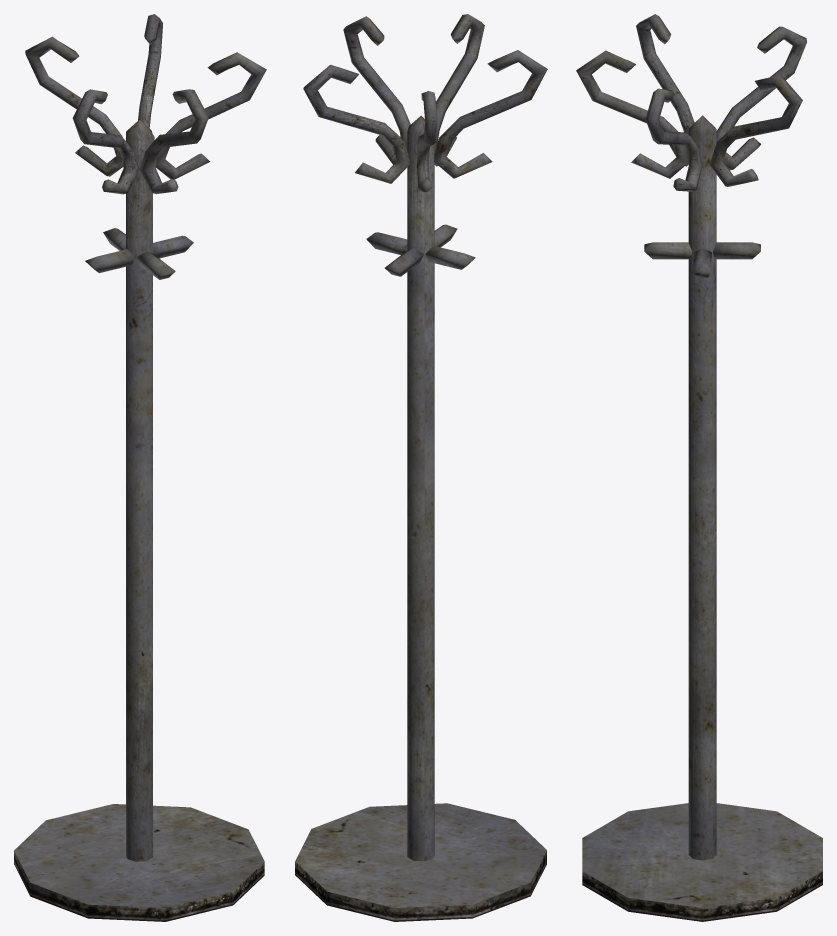
The model's file is M_Home_Garden_Coatrack4.fbx.
3 views of the same model, side by side, from view 1: azimuth 30°, elevation 25°; view 2: azimuth 150°, elevation 25°; view 3: azimuth 270°, elevation 25° (orthographic).
Parts seen in each view (by area): view 1: M_Home_Garden_Coatrack4; view 2: M_Home_Garden_Coatrack4; view 3: M_Home_Garden_Coatrack4.
Part boxes in pixels (bbox=[...]): M_Home_Garden_Coatrack4: bbox=[14, 14, 266, 921]; M_Home_Garden_Coatrack4: bbox=[295, 14, 547, 921]; M_Home_Garden_Coatrack4: bbox=[576, 14, 822, 921].
Bounding box in the file's own units: 59.7 × 213 × 58.25.
